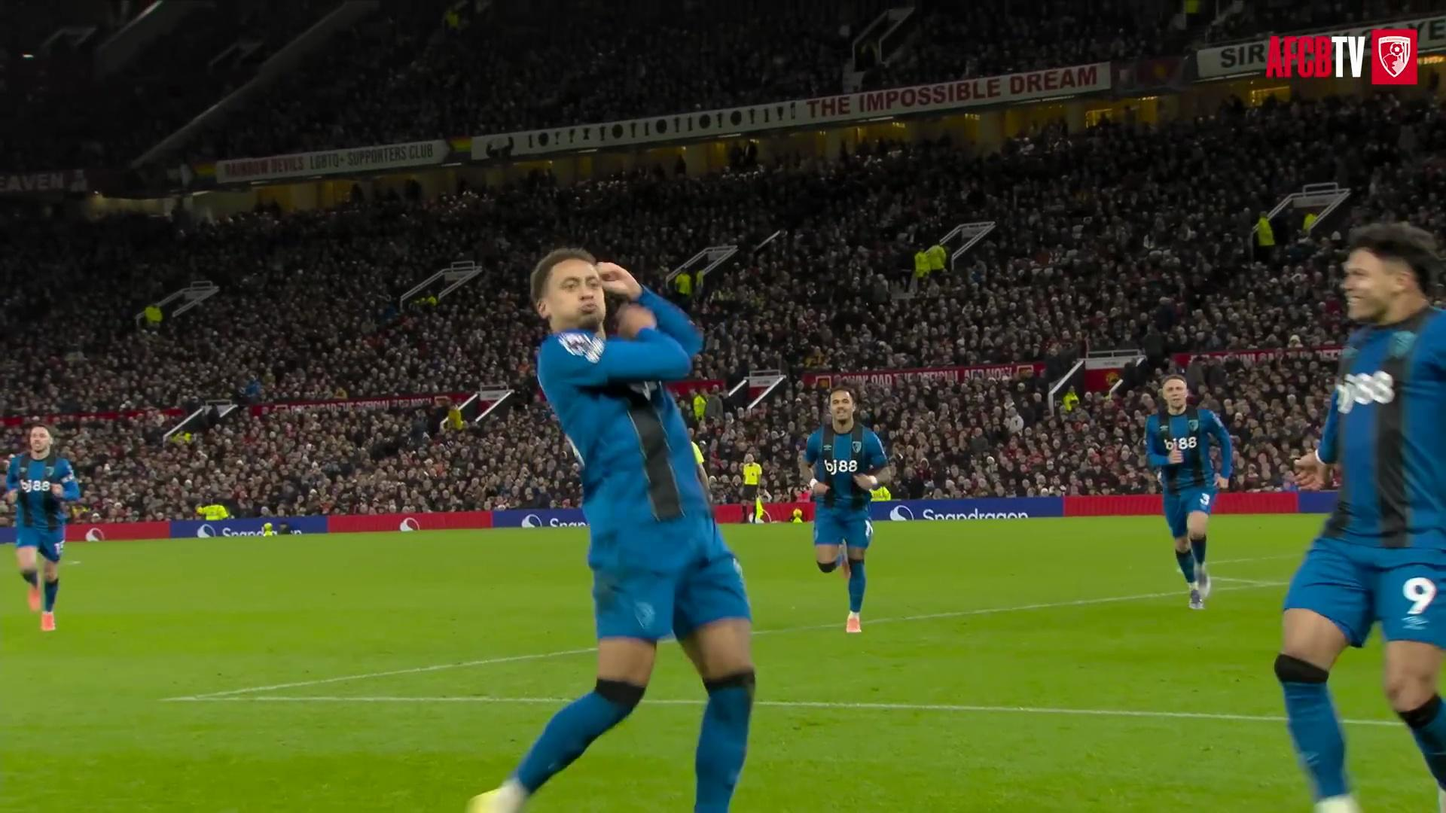player: (468, 249, 755, 812), (1274, 224, 1445, 812), (803, 386, 891, 632), (1147, 374, 1232, 608), (6, 425, 79, 631)
referee: (741, 453, 761, 522)
